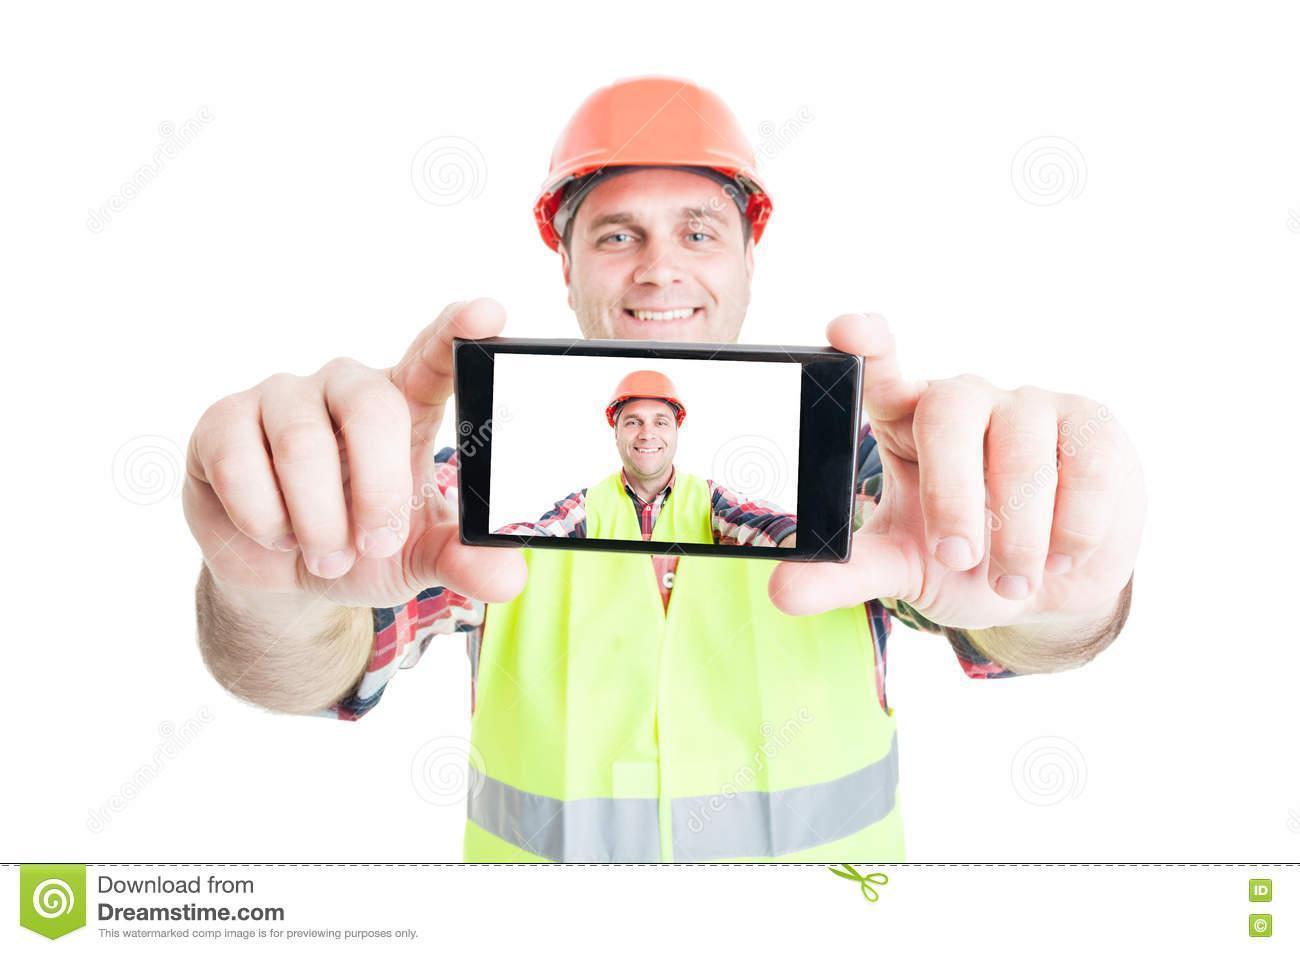helmet: (534, 76, 774, 239)
